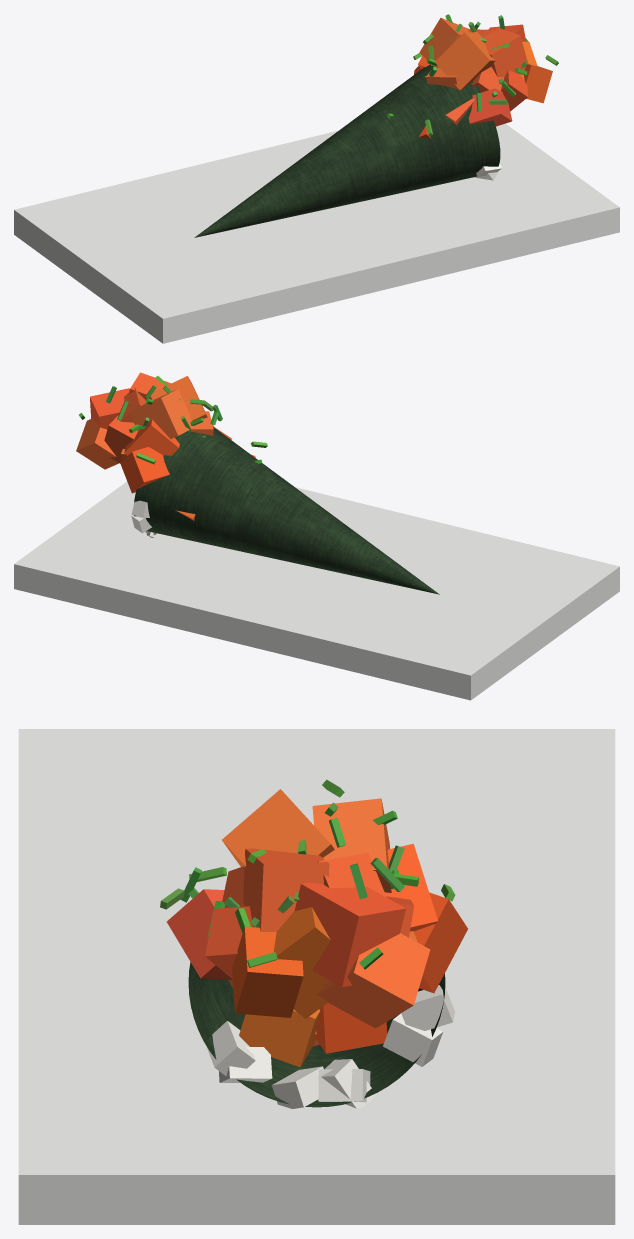
File: temaki.glb
3 renders of one model, top to bottom at view 1: azimuth 30°, elevation 25°; view 2: azimuth 150°, elevation 25°; view 3: azimuth 270°, elevation 25°, orthographic. The views are drawn at different scales.
Visible parts, largest first — view 1: temaki; view 2: temaki; view 3: temaki.
Boxes of the visible parts, box(x1,y1,x2,y2) form: temaki: box(14, 14, 619, 343); temaki: box(14, 372, 619, 700); temaki: box(18, 729, 615, 1224).
Bounding box in the file's own units: 0.23 × 0.0837 × 0.13.
Materials: 3 (1 with a texture image).
